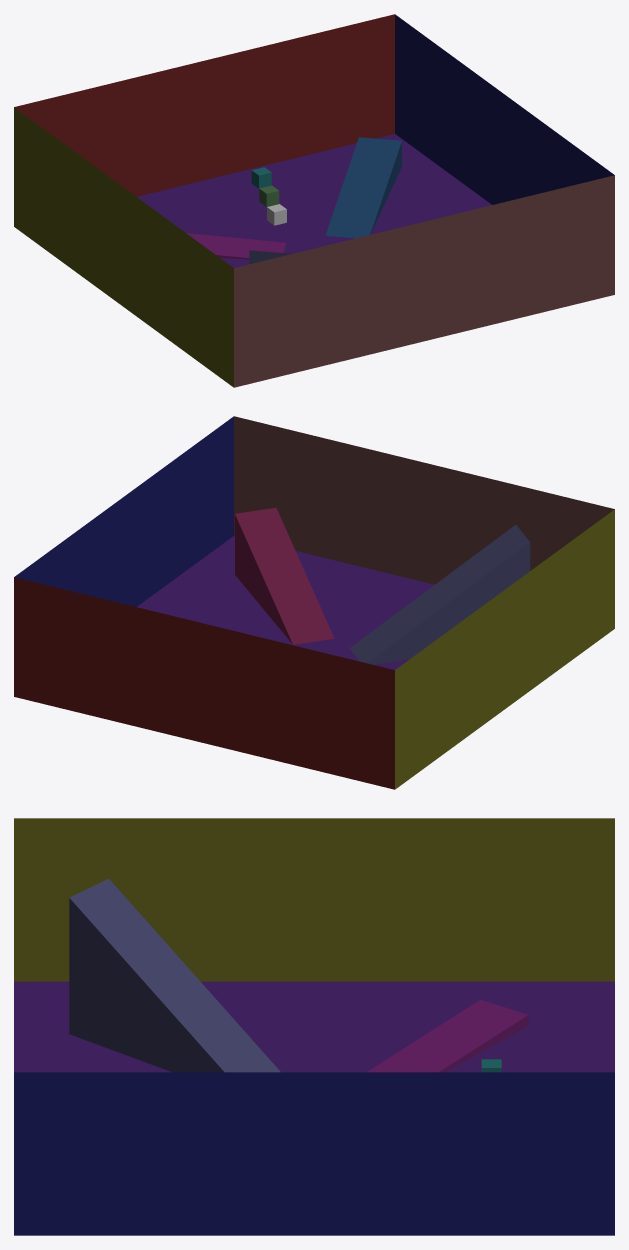
File: fps_example.glb
The picture shows the model from 3 angles, top to bottom: view 1: azimuth 30°, elevation 25°; view 2: azimuth 150°, elevation 25°; view 3: azimuth 270°, elevation 25°; orthographic projection. The views are drawn at different scales.
Visible parts, largest first — view 1: Cube.004; view 2: Cube.004; view 3: Cube.004.
Part boxes in pixels (x1,y1,x2,y2): Cube.004: [14, 14, 614, 387]; Cube.004: [14, 416, 614, 789]; Cube.004: [14, 818, 614, 1235].
Bounding box in the file's own units: 30.48 × 9.14 × 30.48.
Materials: 1 (1 with a texture image).
